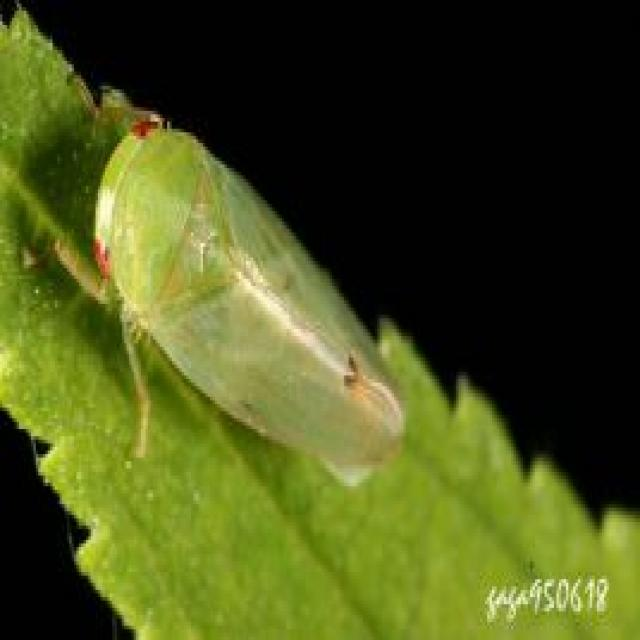Yechan: (70, 106, 416, 485)
